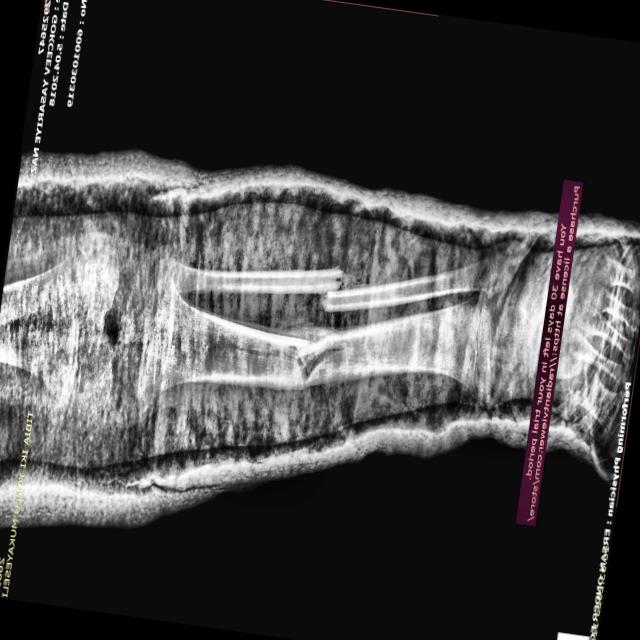Fracture: (286, 322, 348, 400), (314, 254, 349, 320)
